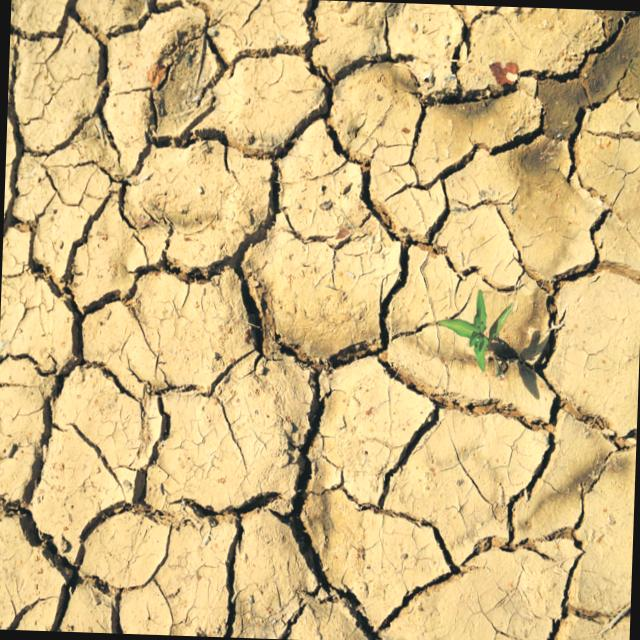suelo_seco: (80, 83, 407, 596)
